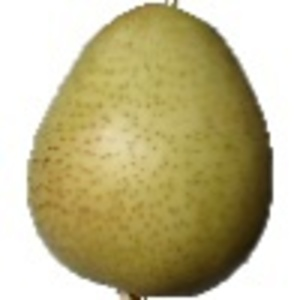pera: (25, 1, 274, 300)
